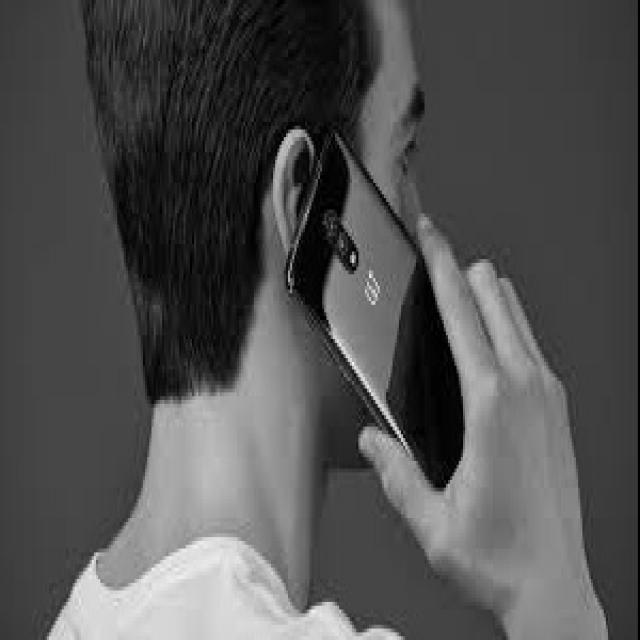phone: (265, 88, 595, 598)
